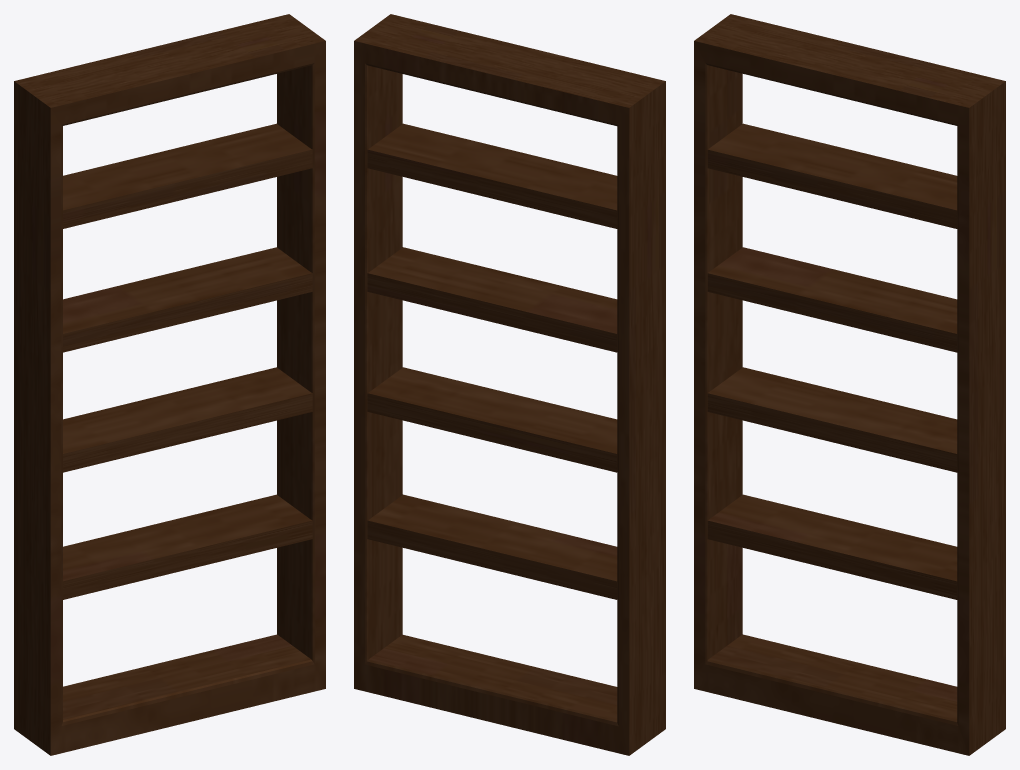
File: bookcase.glb
3 renders of one model, left to right at view 1: azimuth 30°, elevation 25°; view 2: azimuth 150°, elevation 25°; view 3: azimuth 330°, elevation 25°, orthographic.
Visible parts, largest first — view 1: Base armario, Cube.055, Cube.056, Cube.057, Cube.054; view 2: Base armario, Cube.054, Cube.055, Cube.056, Cube.057; view 3: Base armario, Cube.056, Cube.054, Cube.055, Cube.057.
Part boxes in pixels (<box>): Base armario: <box>14,14,325,755</box>; Cube.055: <box>63,367,312,472</box>; Cube.056: <box>63,247,312,352</box>; Cube.057: <box>63,123,312,228</box>; Cube.054: <box>63,494,312,599</box>; Base armario: <box>354,14,665,755</box>; Cube.054: <box>367,494,617,599</box>; Cube.055: <box>367,367,617,472</box>; Cube.056: <box>367,247,617,352</box>; Cube.057: <box>367,123,617,228</box>; Base armario: <box>694,14,1005,755</box>; Cube.056: <box>707,247,957,352</box>; Cube.054: <box>707,494,957,599</box>; Cube.055: <box>707,367,957,472</box>; Cube.057: <box>707,123,957,228</box>.
Size of the model in its own units: 0.8 by 1.8 by 0.1847.
Materials: 1 (1 with a texture image).
